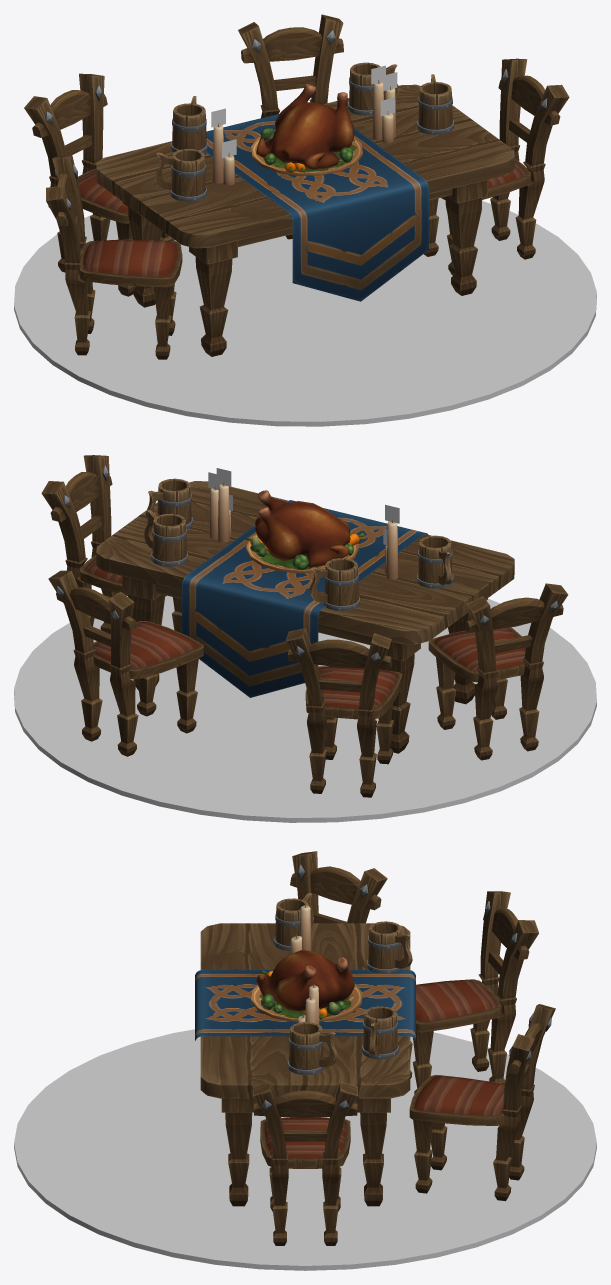
The model's file is Dinner_table.FBX.fbx.
3 renders of one model, top to bottom at view 1: azimuth 30°, elevation 25°; view 2: azimuth 150°, elevation 25°; view 3: azimuth 270°, elevation 25°, orthographic.
Visible parts, largest first — view 1: Carpet, Table, Tablecloth, Chair003, Chair002, Chair, Chair001, Chicken, Cup, Cup003, Cup001, Cup002 (+3 smaller); view 2: Carpet, Table, Tablecloth, Chair001, Chair003, Chair, Chair002, Chicken, Cup001, Cup002, Cup, Cup003 (+3 smaller); view 3: Carpet, Table, Chair001, Chair, Chair002, Tablecloth, Chair003, Chicken, Cup003, Cup001, Cup002, Cup (+1 smaller).
Part boxes in pixels (bbox=[...]): Carpet: bbox=[14, 198, 596, 426]; Table: bbox=[96, 84, 514, 356]; Tablecloth: bbox=[205, 113, 428, 301]; Chair003: bbox=[46, 155, 182, 359]; Chair002: bbox=[424, 58, 569, 275]; Chair: bbox=[24, 73, 174, 296]; Chair001: bbox=[238, 14, 343, 239]; Chicken: bbox=[256, 83, 354, 169]; Cup: bbox=[155, 149, 206, 201]; Cup003: bbox=[417, 74, 453, 134]; Cup001: bbox=[171, 96, 207, 152]; Cup002: bbox=[348, 62, 398, 115]; Carpet: bbox=[14, 595, 596, 822]; Table: bbox=[96, 481, 514, 753]; Tablecloth: bbox=[182, 500, 428, 697]; Chair001: bbox=[48, 570, 203, 756]; Chair003: bbox=[428, 583, 568, 760]; Chair: bbox=[285, 628, 402, 797]; Chair002: bbox=[41, 455, 181, 633]; Chicken: bbox=[255, 490, 350, 567]; Cup001: bbox=[309, 558, 359, 611]; Cup002: bbox=[144, 510, 187, 566]; Cup: bbox=[417, 535, 453, 588]; Cup003: bbox=[145, 478, 192, 529]; Carpet: bbox=[14, 1029, 596, 1270]; Table: bbox=[200, 923, 410, 1206]; Chair001: bbox=[409, 1004, 555, 1201]; Chair: bbox=[410, 891, 538, 1094]; Chair002: bbox=[253, 1081, 357, 1245]; Tablecloth: bbox=[195, 969, 415, 1040]; Chair003: bbox=[290, 851, 387, 923]; Chicken: bbox=[256, 950, 354, 1011]; Cup003: bbox=[287, 1022, 337, 1074]; Cup001: bbox=[367, 921, 412, 973]; Cup002: bbox=[362, 1006, 398, 1059]; Cup: bbox=[274, 893, 313, 951].
Size of the model in its own units: 3456 by 1377 by 3399.
